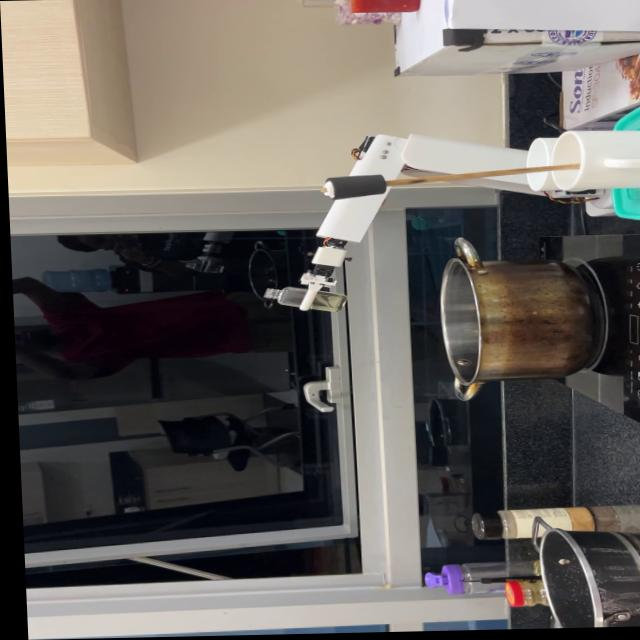blended_tomatoes_pepper: (352, 0, 418, 10)
cooking_pot: (441, 235, 596, 401), (526, 517, 640, 629)
oil: (309, 291, 348, 310)
spatula: (337, 158, 580, 197)
